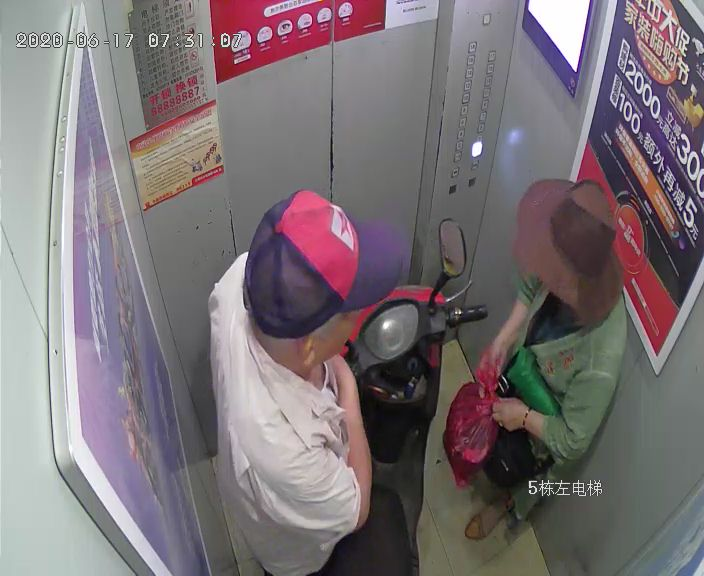Electric-bicycle: (325, 218, 486, 573)
